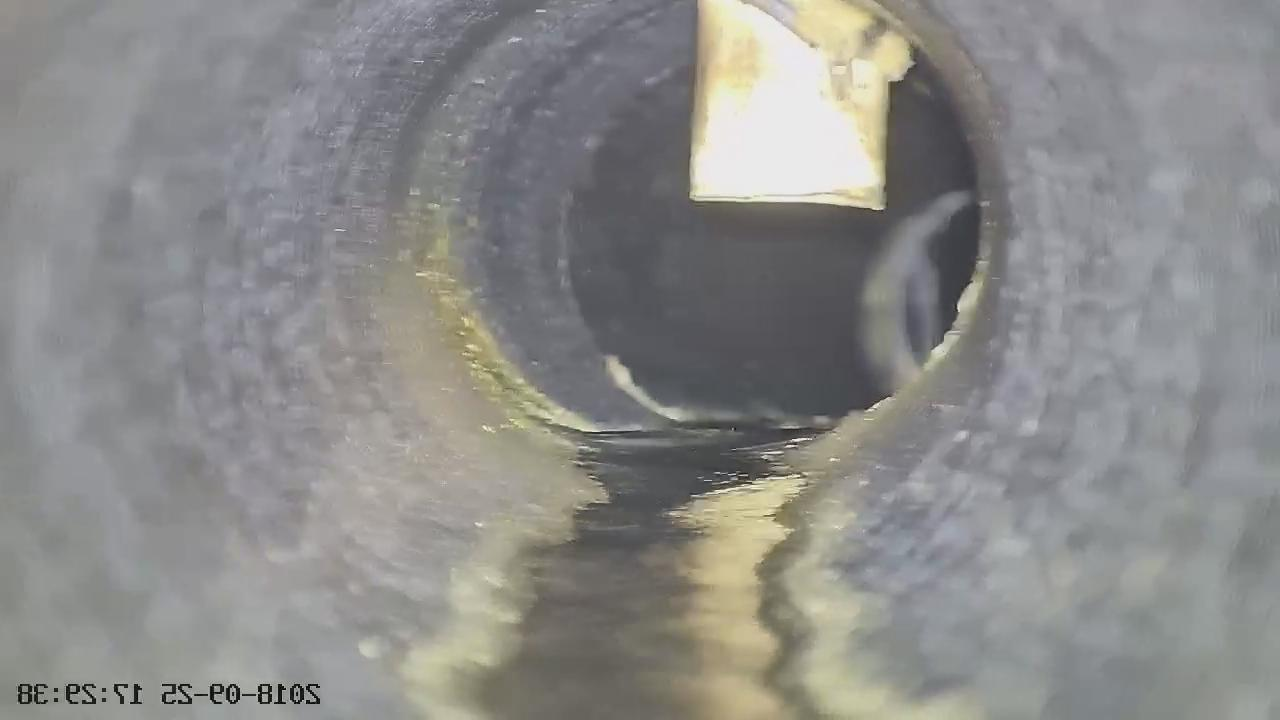ZGAJ: (690, 0, 914, 209)
